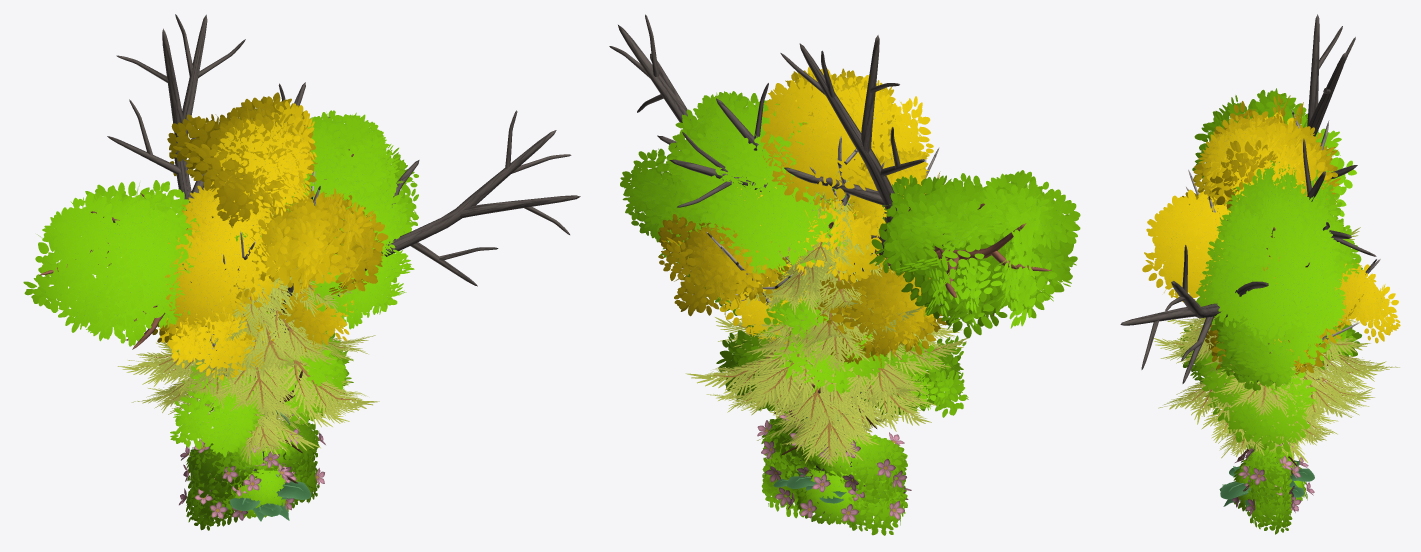
Rendered from flora-Db0RpDWV.glb.
The picture shows the model from 3 angles, left to right: view 1: azimuth 30°, elevation 25°; view 2: azimuth 150°, elevation 25°; view 3: azimuth 270°, elevation 25°; orthographic projection. The views are drawn at different scales.
Visible parts, largest first — view 1: NormalTree_4, BirchTree_5, BirchTree_1, PineTree_5, DeadTree_6, NormalTree_5, PineTree_1, BirchTree_4, Bush_Large_Flowers, Bush_Large, PineTree_3, Bush (+2 smaller); view 2: NormalTree_4, BirchTree_5, PineTree_5, PineTree_1, NormalTree_5, DeadTree_6, BirchTree_1, BirchTree_4, Bush_Large, Bush_Large_Flowers, Bush, Bush_Small (+2 smaller); view 3: NormalTree_4, BirchTree_5, NormalTree_5, PineTree_5, DeadTree_6, PineTree_1, BirchTree_1, Bush_Large_Flowers, Bush_Large, Bush_Small, Plant_2, BirchTree_4 (+3 smaller).
Part boxes in pixels (x1,y1,x2,y2): NormalTree_4: (23, 110, 418, 434); BirchTree_5: (165, 92, 388, 334); BirchTree_1: (152, 101, 346, 348); PineTree_5: (117, 214, 375, 464); DeadTree_6: (107, 14, 580, 472); NormalTree_5: (170, 312, 353, 457); PineTree_1: (128, 267, 379, 452); BirchTree_4: (159, 218, 353, 380); Bush_Large_Flowers: (180, 414, 325, 526); Bush_Large: (186, 420, 317, 525); PineTree_3: (206, 377, 308, 483); Bush: (228, 468, 289, 517); NormalTree_4: (620, 91, 1080, 338); BirchTree_5: (658, 69, 940, 317); PineTree_5: (706, 190, 962, 466); PineTree_1: (685, 170, 967, 432); NormalTree_5: (716, 287, 968, 428); DeadTree_6: (609, 14, 924, 514); BirchTree_1: (729, 66, 933, 356); BirchTree_4: (720, 194, 946, 368); Bush_Large: (761, 418, 907, 530); Bush_Large_Flowers: (757, 412, 907, 523); Bush: (796, 462, 867, 524); Bush_Small: (762, 458, 907, 535); NormalTree_4: (1192, 88, 1362, 390); BirchTree_5: (1142, 93, 1400, 353); NormalTree_5: (1178, 322, 1361, 457); PineTree_5: (1154, 318, 1399, 462); DeadTree_6: (1120, 14, 1376, 463); PineTree_1: (1158, 227, 1386, 460); BirchTree_1: (1193, 112, 1308, 364); Bush_Large_Flowers: (1245, 441, 1300, 529); Bush_Large: (1246, 445, 1294, 529); Bush_Small: (1246, 480, 1292, 534); Plant_2: (1219, 466, 1314, 499); BirchTree_4: (1205, 318, 1328, 374).
Size of the model in its own units: 6.84 by 6.66 by 3.68.
Materials: 15 (12 with a texture image).
